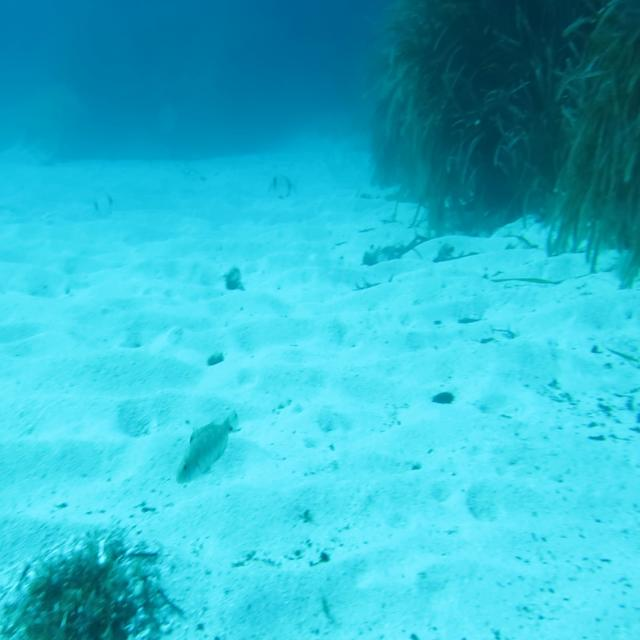BN: (175, 406, 242, 487)
nest: (0, 519, 182, 640)
other_fish: (264, 171, 298, 200), (89, 187, 114, 222)
vegetation: (359, 0, 640, 290), (222, 267, 248, 293), (205, 351, 229, 368), (430, 393, 456, 406)
